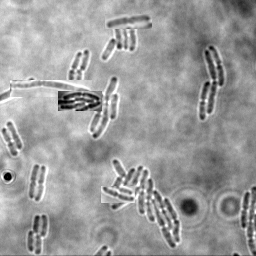Dividing: (10, 80, 92, 97), (105, 14, 152, 29), (101, 186, 135, 203), (1, 128, 18, 157), (34, 166, 47, 202), (28, 164, 39, 200), (67, 52, 81, 80), (239, 192, 249, 229)
Microcolony: (109, 158, 180, 249), (88, 76, 119, 139), (199, 45, 224, 121), (101, 18, 136, 61), (58, 91, 102, 111), (27, 214, 48, 255)
Rod: (5, 121, 23, 150), (79, 50, 89, 72), (73, 69, 82, 80)
